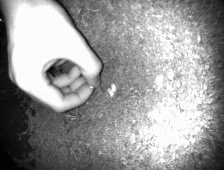corn: (152, 72, 166, 86), (105, 86, 117, 98), (109, 81, 118, 93), (88, 84, 95, 90)
